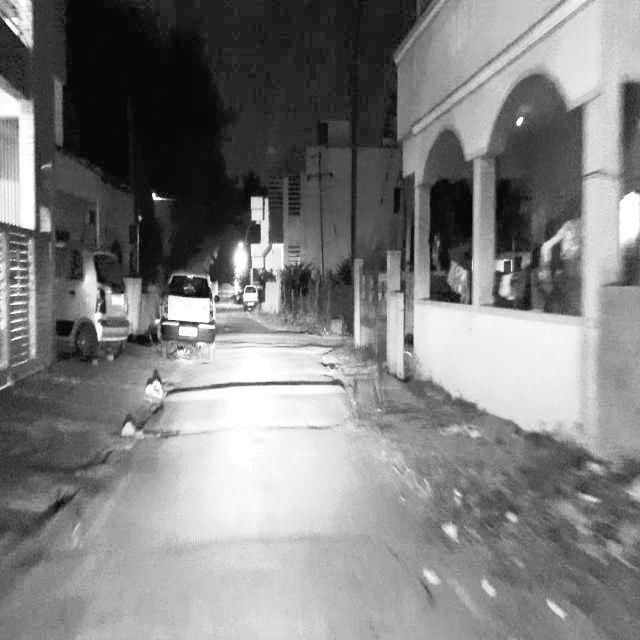Pothole: (293, 404, 340, 446), (154, 414, 201, 449)
